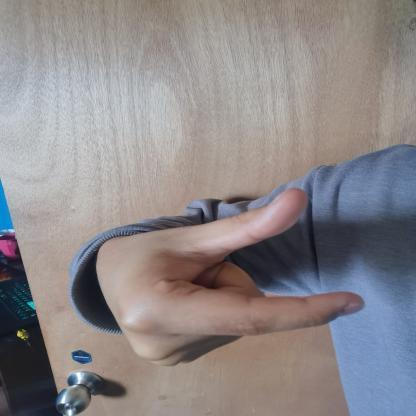G: (90, 180, 388, 375)
